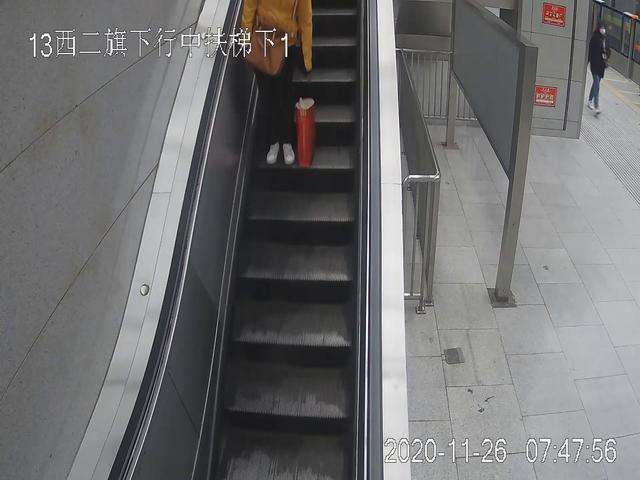person: (235, 1, 314, 165), (587, 21, 612, 119)
